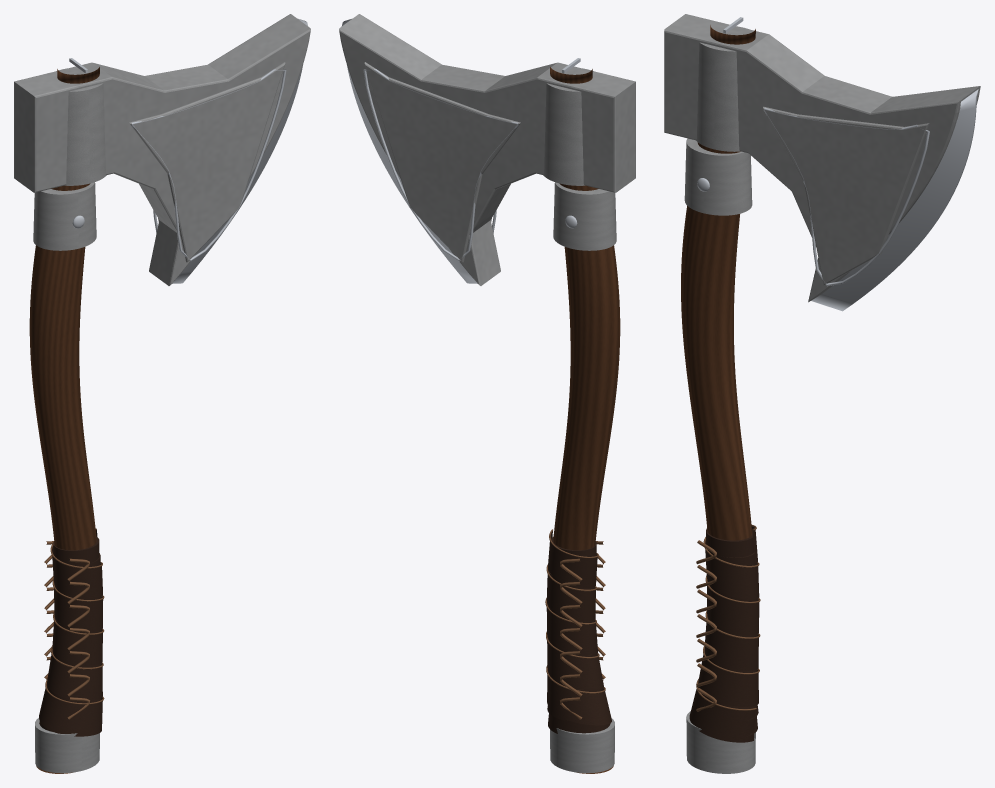
File: emberite_hatchet.glb
3 renders of one model, left to right at view 1: azimuth 30°, elevation 25°; view 2: azimuth 150°, elevation 25°; view 3: azimuth 330°, elevation 25°, orthographic. The views are drawn at different scales.
Parts seen in each view (by area): view 1: satin-titanium, longitudinal-walnut, dark-brown-grip-leather, honed-emberite_hatchet, strap-edge-and-inlay; view 2: satin-titanium, longitudinal-walnut, dark-brown-grip-leather, honed-emberite_hatchet, strap-edge-and-inlay; view 3: satin-titanium, longitudinal-walnut, dark-brown-grip-leather, honed-emberite_hatchet, strap-edge-and-inlay.
Boxes of the visible parts, x1,y1,x2,y2 form: satin-titanium: [14, 14, 310, 773]; longitudinal-walnut: [29, 67, 99, 773]; dark-brown-grip-leather: [39, 530, 103, 736]; honed-emberite_hatchet: [69, 19, 308, 283]; strap-edge-and-inlay: [44, 528, 104, 719]; satin-titanium: [339, 14, 635, 773]; longitudinal-walnut: [550, 67, 620, 773]; dark-brown-grip-leather: [546, 531, 611, 733]; honed-emberite_hatchet: [341, 19, 580, 283]; strap-edge-and-inlay: [545, 529, 605, 719]; satin-titanium: [664, 14, 980, 773]; longitudinal-walnut: [681, 25, 755, 540]; dark-brown-grip-leather: [689, 526, 759, 742]; honed-emberite_hatchet: [697, 17, 978, 311]; strap-edge-and-inlay: [696, 525, 760, 711].
Size of the model in its own units: 0.2816 by 0.6625 by 0.053.
Materials: 5 (3 with a texture image).
